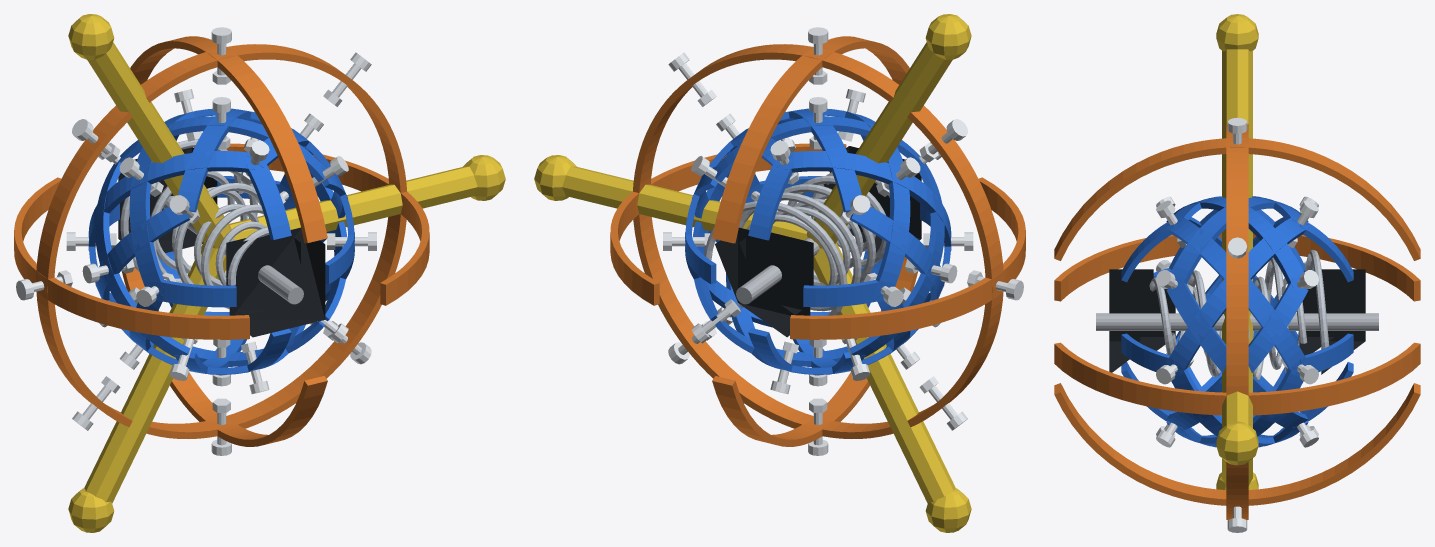
File: unit_cell_dual_nested.obj
The picture shows the model from 3 angles, left to right: view 1: azimuth 30°, elevation 25°; view 2: azimuth 150°, elevation 25°; view 3: azimuth 270°, elevation 25°; orthographic projection. The views are drawn at different scales.
Visible parts, largest first — view 1: links_equatorial, links_truss, triad, pins, collars, spring, shaft; view 2: links_equatorial, links_truss, triad, pins, collars, spring, shaft; view 3: links_equatorial, links_truss, triad, collars, pins, spring, shaft.
Boxes of the visible parts, left/top/right/bottom form: links_equatorial: left=14, top=36, right=429, bottom=446; links_truss: left=88, top=108, right=354, bottom=374; triad: left=68, top=14, right=505, bottom=532; pins: left=16, top=27, right=376, bottom=455; collars: left=118, top=147, right=325, bottom=337; spring: left=120, top=139, right=269, bottom=309; shaft: left=163, top=196, right=303, bottom=304; links_equatorial: left=610, top=36, right=1025, bottom=446; links_truss: left=685, top=108, right=951, bottom=374; triad: left=534, top=14, right=971, bottom=532; pins: left=663, top=27, right=1023, bottom=455; collars: left=715, top=146, right=921, bottom=337; spring: left=704, top=172, right=889, bottom=315; shaft: left=736, top=205, right=871, bottom=304; links_equatorial: left=1054, top=124, right=1420, bottom=519; links_truss: left=1121, top=196, right=1353, bottom=447; triad: left=1216, top=14, right=1258, bottom=489; collars: left=1109, top=269, right=1365, bottom=374; pins: left=1156, top=117, right=1318, bottom=532; spring: left=1149, top=250, right=1329, bottom=381; shaft: left=1096, top=313, right=1378, bottom=330.
Size of the model in its own units: 120 by 123 by 82.93.
